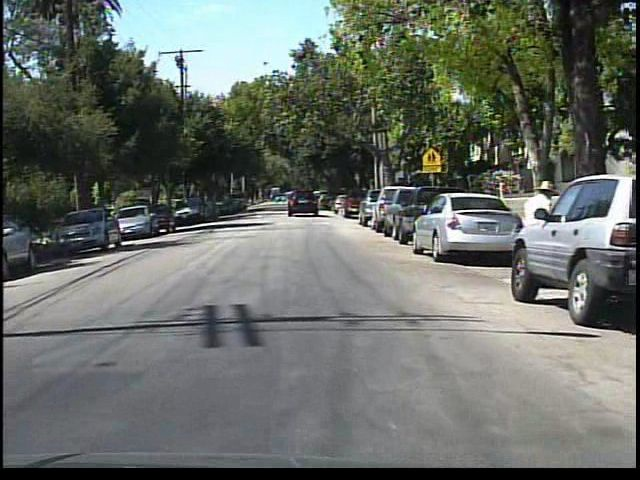person: (517, 177, 559, 298)
